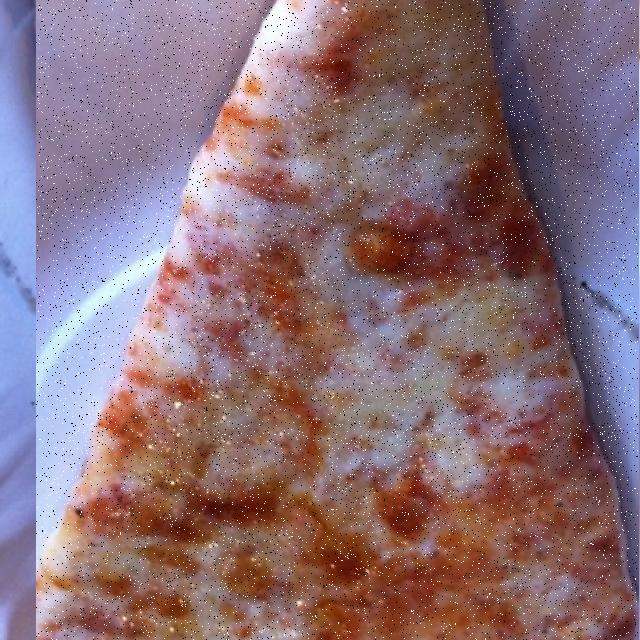Pizza: (37, 0, 638, 640)
